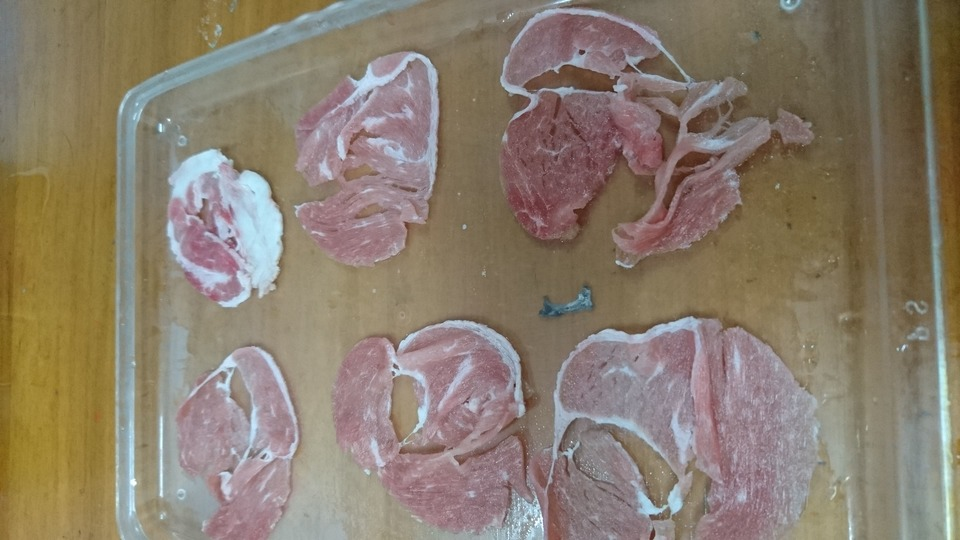restructured meat: (500, 20, 781, 271), (549, 324, 835, 535), (313, 318, 536, 540), (277, 37, 452, 265), (156, 340, 299, 527), (153, 136, 293, 311)
